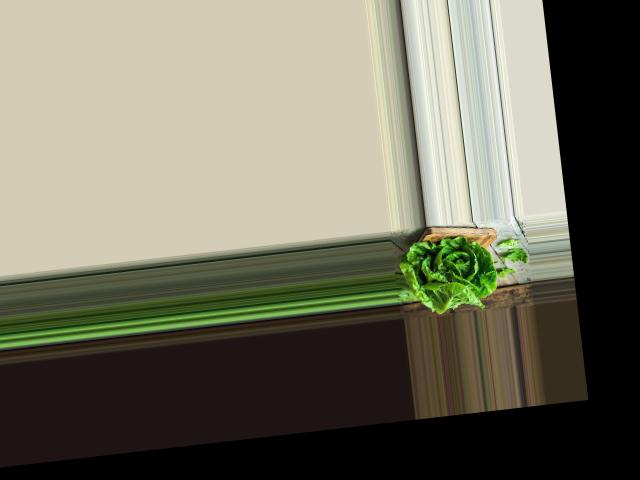lettuce: (394, 229, 496, 315)
